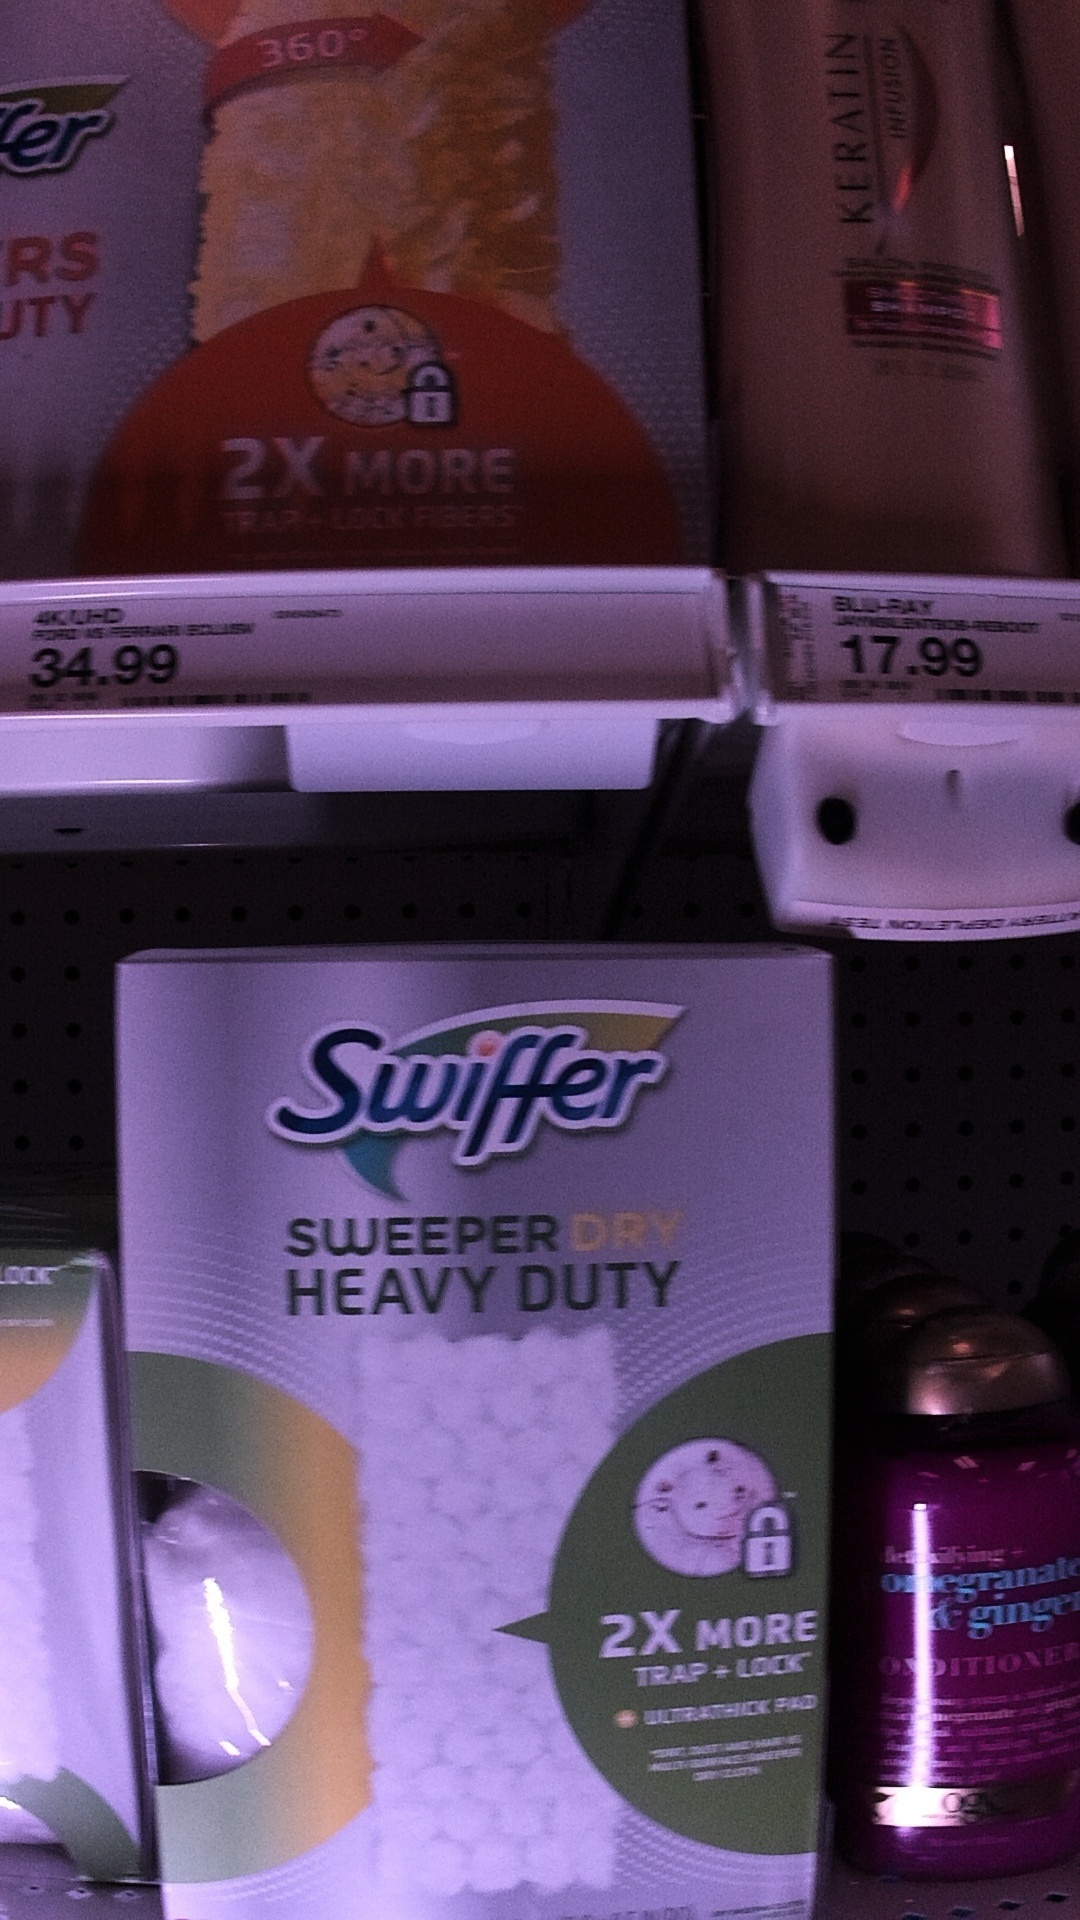ptag: (756, 575, 1080, 709), (13, 604, 338, 717)
